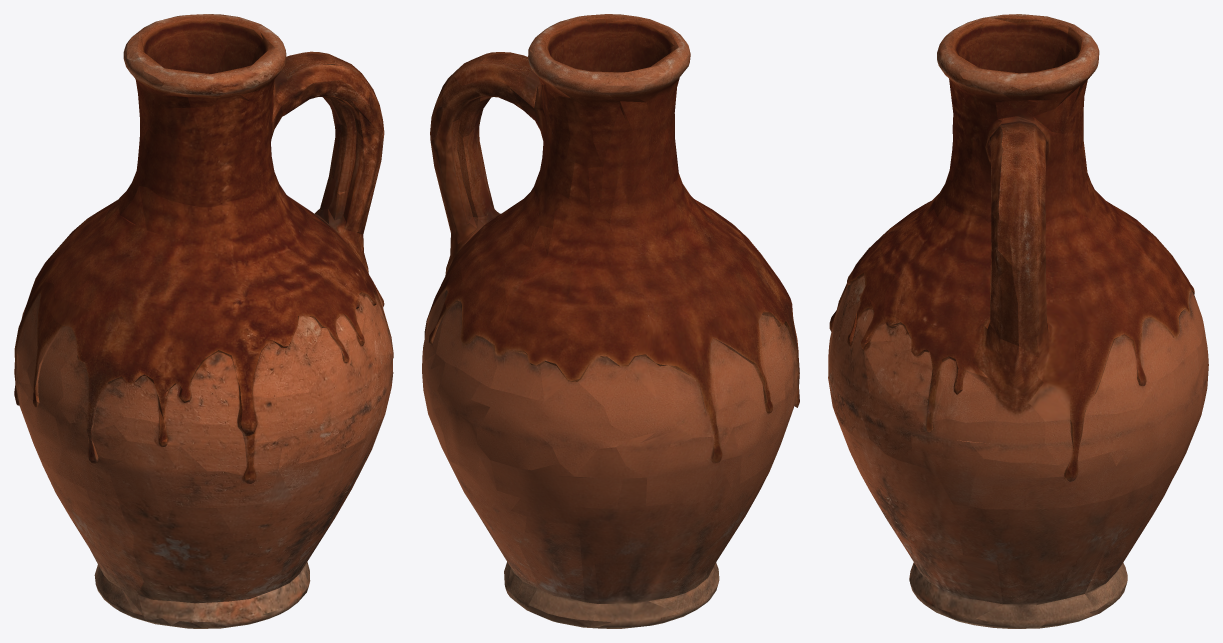
File: clay-jug.glb
The picture shows the model from 3 angles, left to right: view 1: azimuth 30°, elevation 25°; view 2: azimuth 150°, elevation 25°; view 3: azimuth 270°, elevation 25°; orthographic projection.
Bounding box in the file's own units: 1.25 × 1.9 × 1.2.
1 material, 1 textured.
